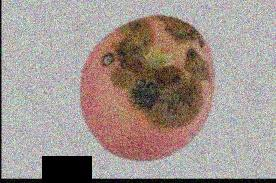rotten apple: (100, 10, 211, 127)
